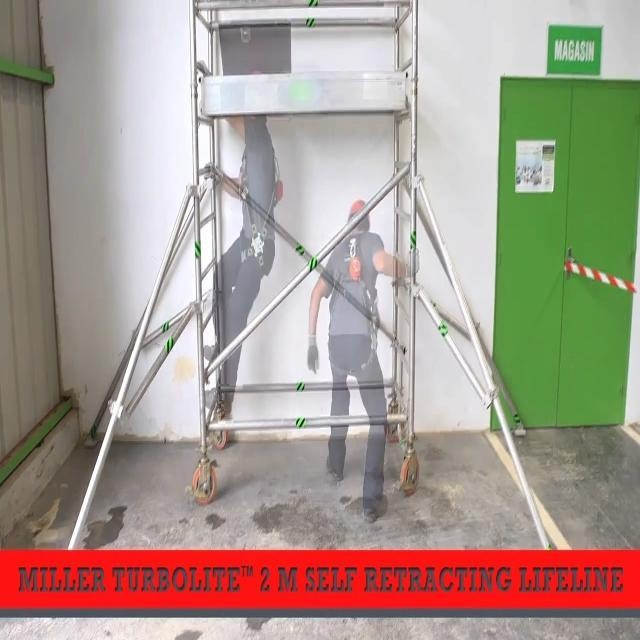Arnes_seguridad: (325, 234, 380, 382), (237, 125, 282, 289)
